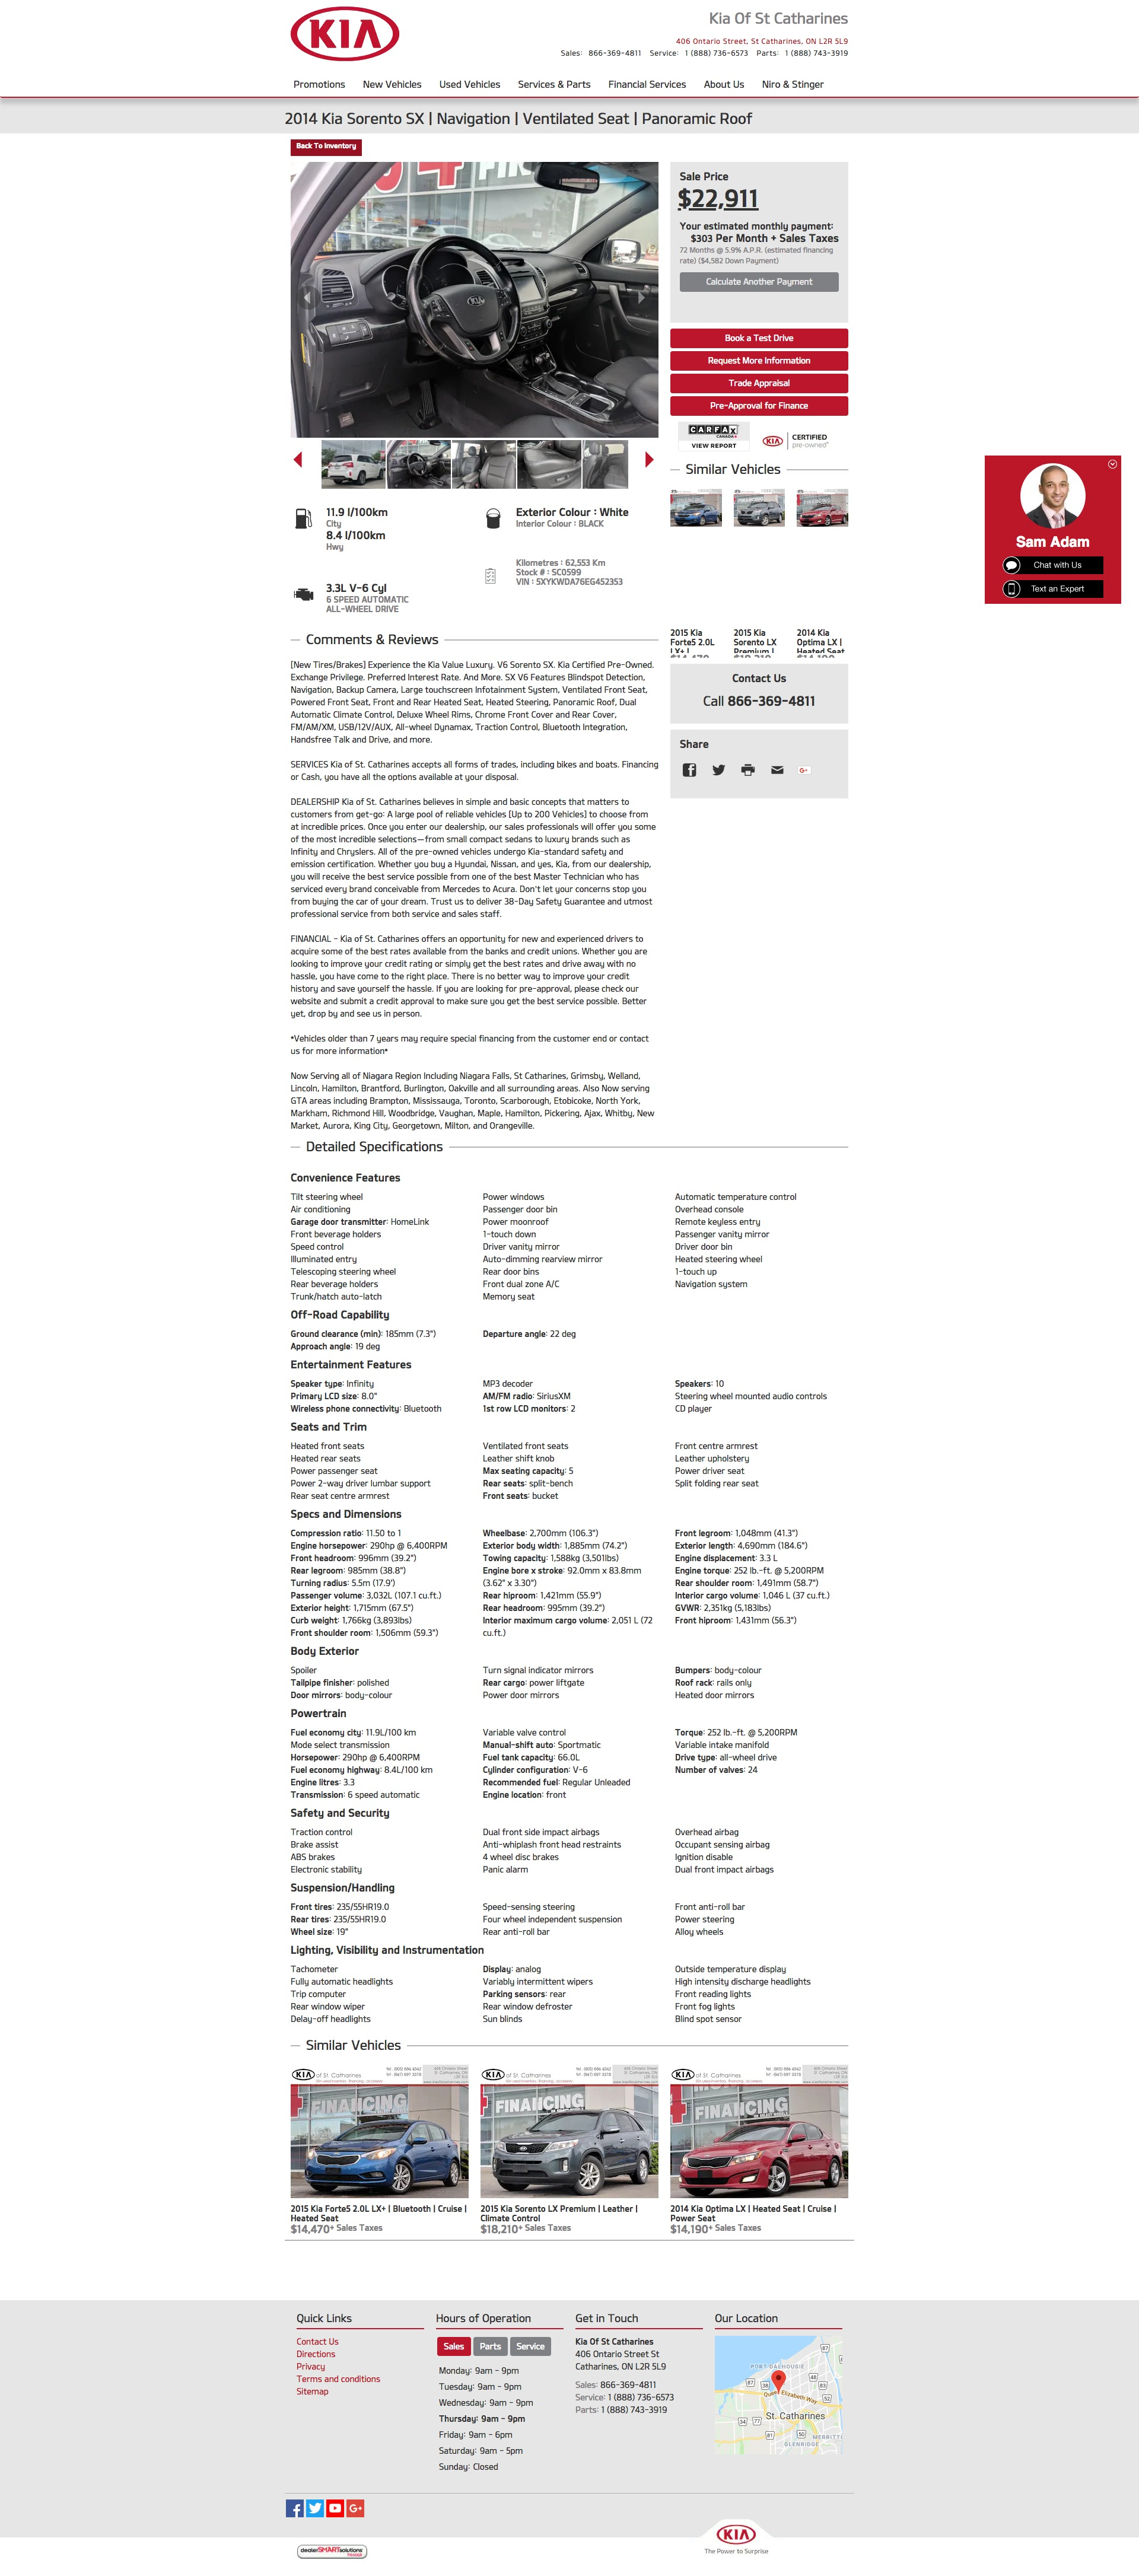car: (644, 452, 654, 468)
